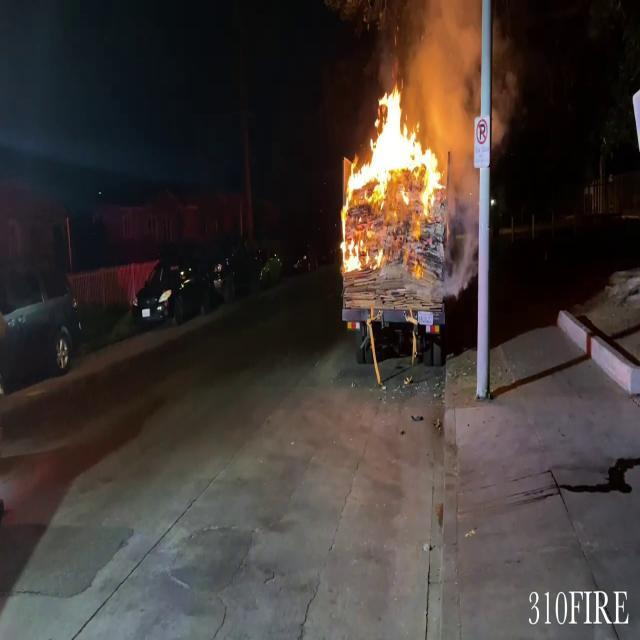Fire: (332, 80, 452, 270)
Smoke: (415, 0, 513, 181)
